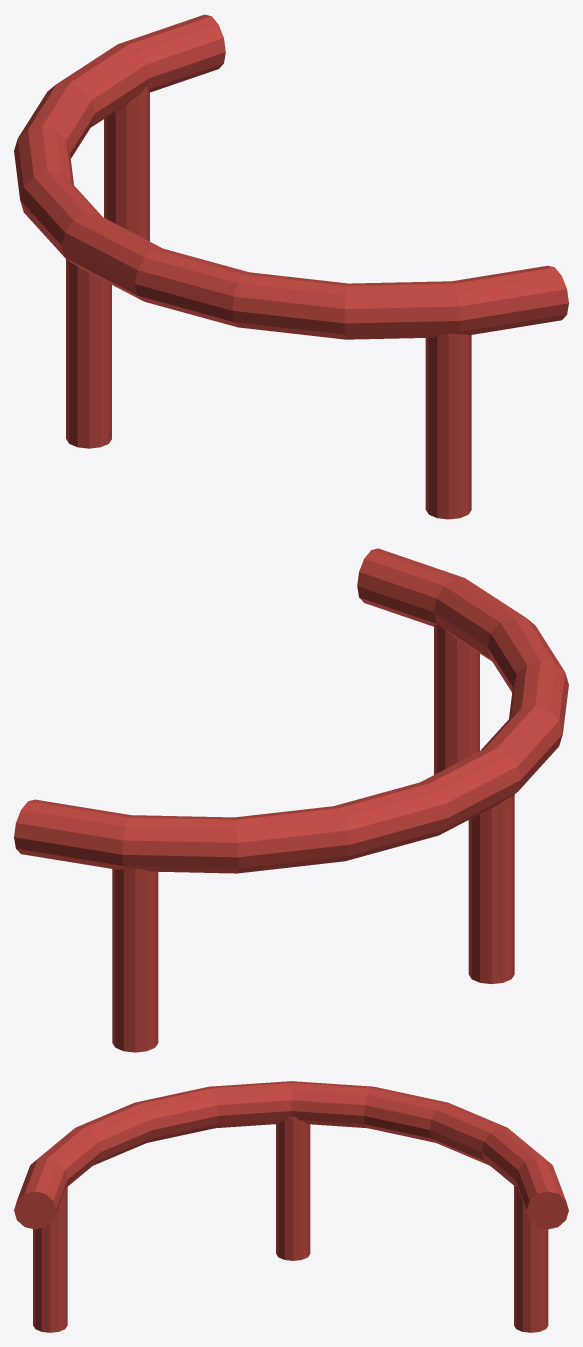
Rendered from CurvedRailing.fbx.
3 views of the same model, one above another, from view 1: azimuth 30°, elevation 25°; view 2: azimuth 150°, elevation 25°; view 3: azimuth 270°, elevation 25° (orthographic). The views are drawn at different scales.
Visible parts, largest first — view 1: CurvedRailing; view 2: CurvedRailing; view 3: CurvedRailing.
Boxes of the visible parts, left/top/right/bottom form: CurvedRailing: left=14, top=14, right=568, bottom=519; CurvedRailing: left=14, top=548, right=568, bottom=1052; CurvedRailing: left=14, top=1081, right=568, bottom=1332.
Bounding box in the file's own units: 323 × 217 × 646.
